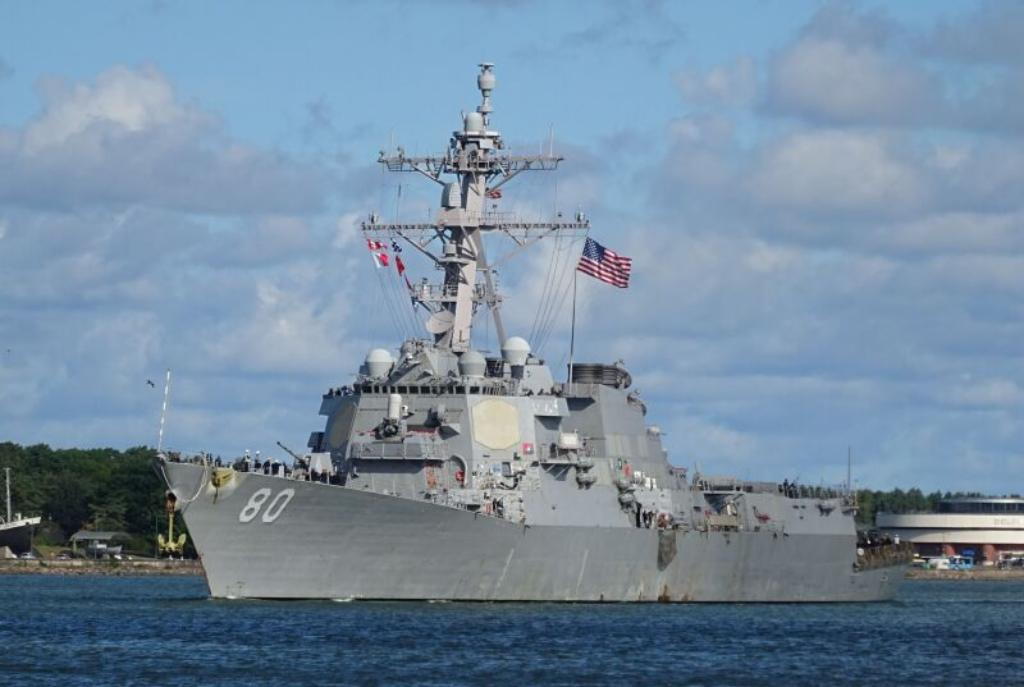Warship: (147, 55, 931, 603)
